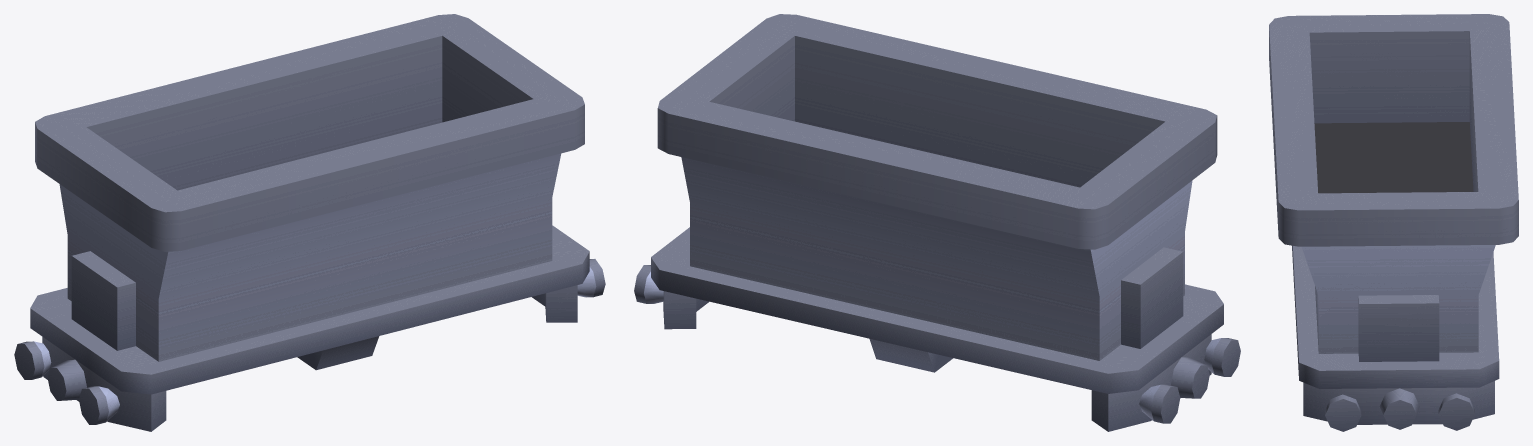
File: train-carriage-box_lev2.glb
The picture shows the model from 3 angles, left to right: view 1: azimuth 30°, elevation 25°; view 2: azimuth 150°, elevation 25°; view 3: azimuth 270°, elevation 25°; orthographic projection. The views are drawn at different scales.
Parts seen in each view (by area): view 1: train-carriage-box_lev2; view 2: train-carriage-box_lev2; view 3: train-carriage-box_lev2.
Boxes of the visible parts, x1,y1,x2,y2 form: train-carriage-box_lev2: (14, 14, 605, 431); train-carriage-box_lev2: (634, 14, 1240, 431); train-carriage-box_lev2: (1269, 14, 1518, 431).
Size of the model in its own units: 2.72 by 1.14 by 1.25.
Materials: 1 (1 with a texture image).
